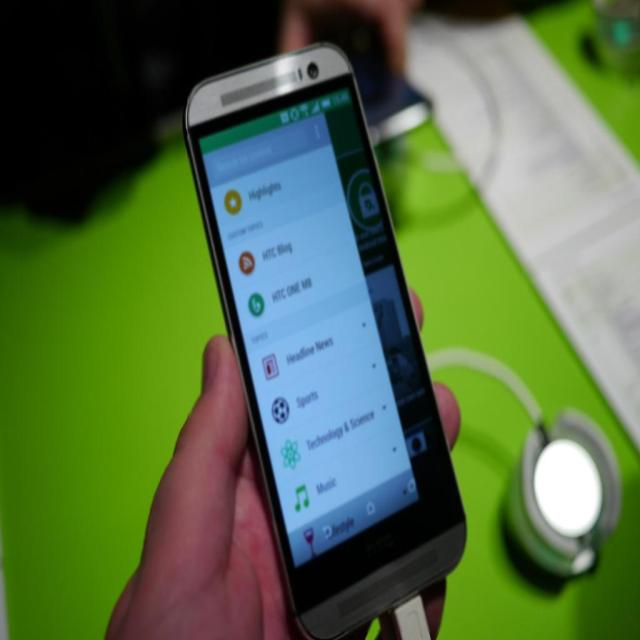handphone: (184, 48, 467, 640)
